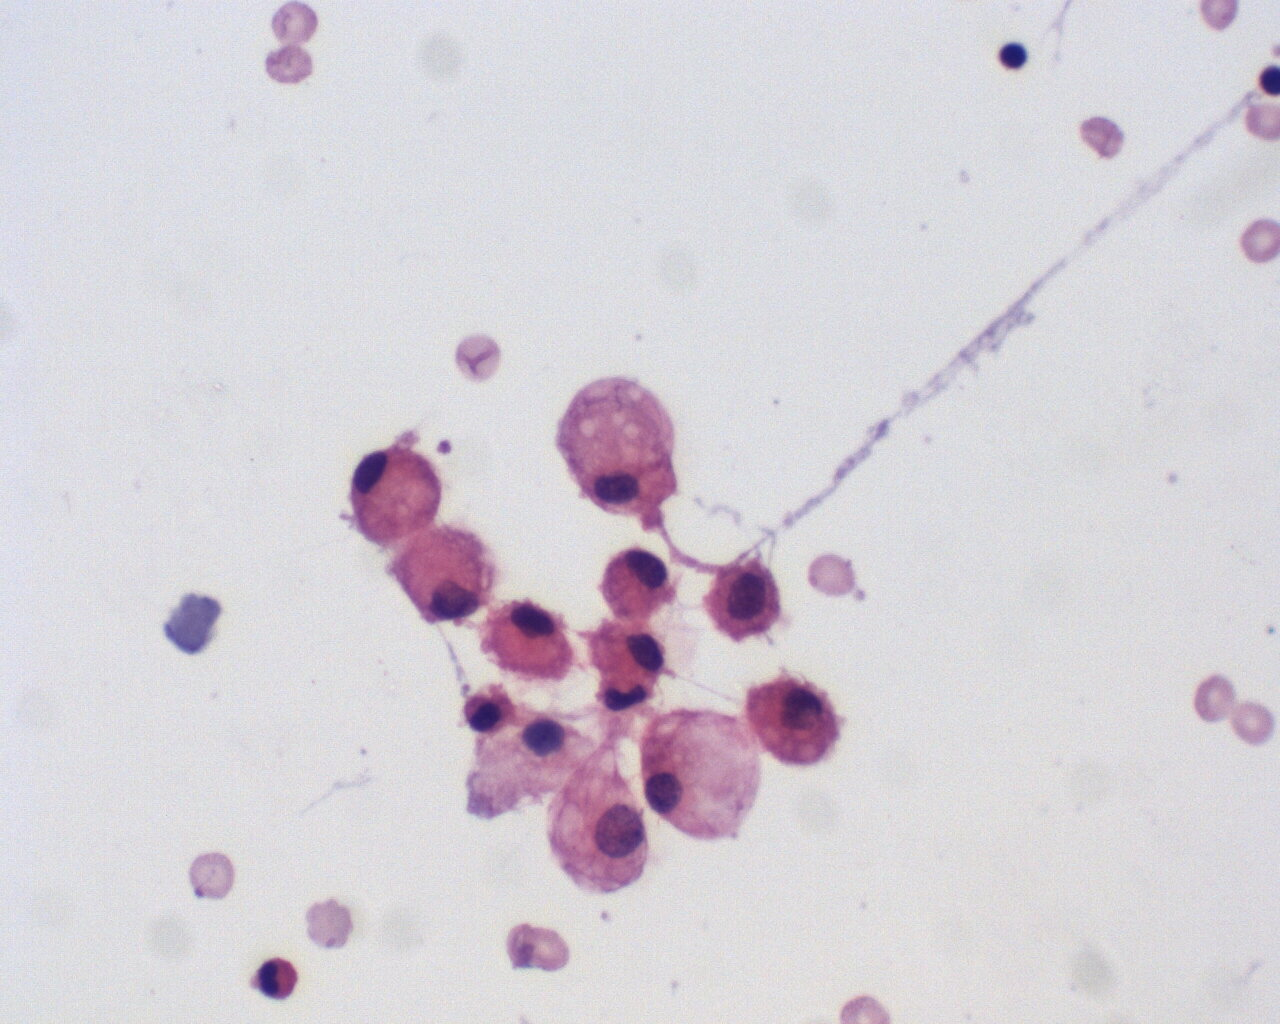histo: (540, 374, 682, 521), (639, 701, 766, 848)
lymph: (997, 40, 1032, 74)
meso: (345, 445, 447, 540), (748, 670, 843, 770), (481, 601, 578, 683), (699, 553, 785, 641), (596, 541, 679, 620), (586, 618, 668, 695)
